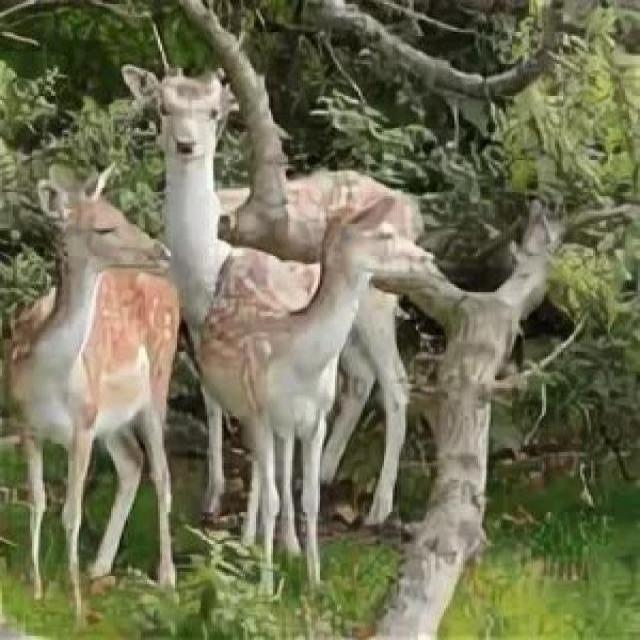deer: (128, 35, 422, 376), (176, 186, 448, 550), (0, 151, 207, 550)
